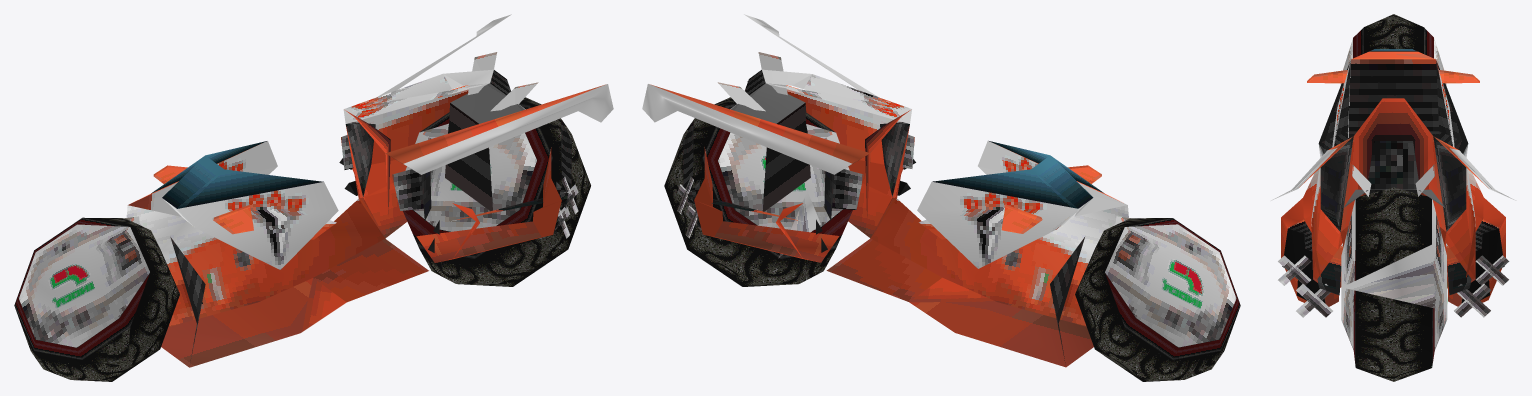
The model's file is ps2_save-icons_xgraextremegracingassociation.glb.
3 renders of one model, left to right at view 1: azimuth 30°, elevation 25°; view 2: azimuth 150°, elevation 25°; view 3: azimuth 270°, elevation 25°, orthographic.
Parts seen in each view (by area): view 1: ICON1.ICO; view 2: ICON1.ICO; view 3: ICON1.ICO.
Boxes of the visible parts, left/top/right/bottom form: ICON1.ICO: left=14, top=14, right=613, bottom=381; ICON1.ICO: left=642, top=14, right=1240, bottom=381; ICON1.ICO: left=1271, top=14, right=1516, bottom=381.
Size of the model in its own units: 5 by 1.86 by 1.92.
Materials: 1 (1 with a texture image).
